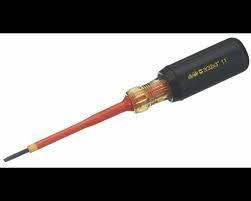screwdriver: (2, 36, 250, 162)
